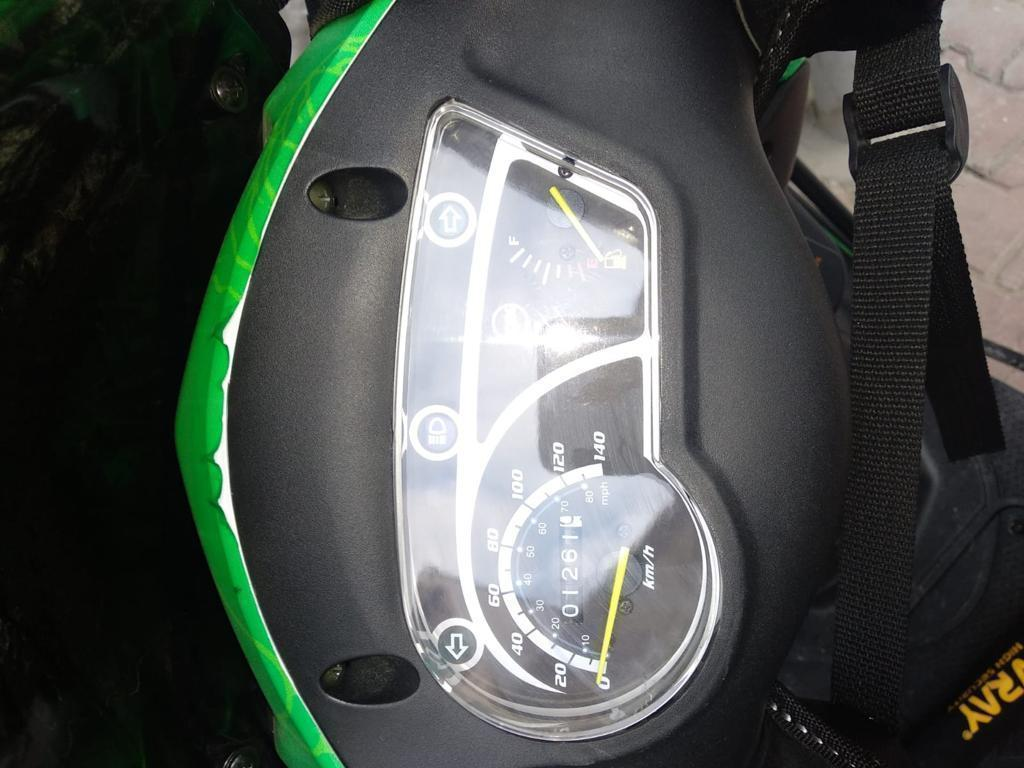0: (560, 604, 579, 617), (557, 514, 574, 526), (554, 616, 560, 623)
1: (559, 531, 580, 542), (559, 587, 580, 597)
2: (558, 565, 580, 581)
6: (558, 548, 579, 563)
odometer: (554, 512, 587, 626)
